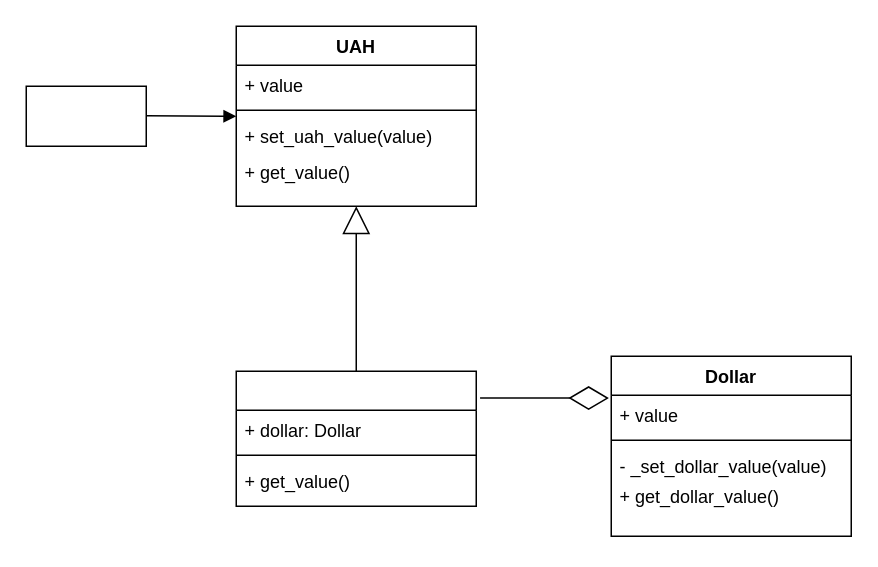
Some shapes in this 878 by 567 pixel diagram are drawn without their labels. Here are the shapes that lost their labels. From the top down, the box of each, then its label:
(25, 85, 146, 146): Client
(235, 370, 476, 506): Converter
